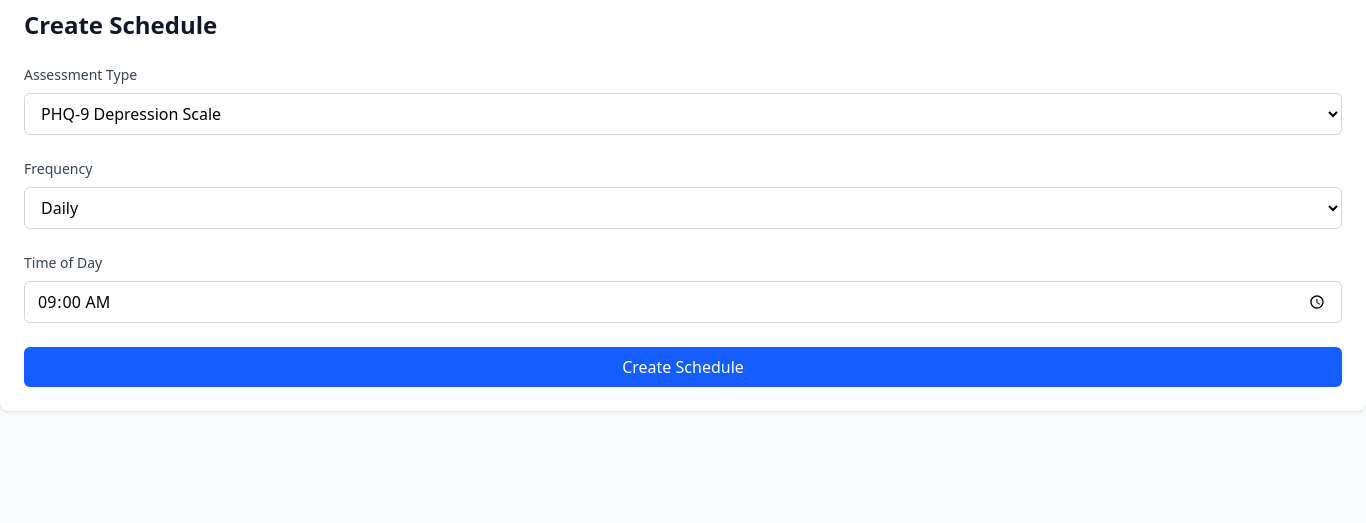
ScheduleForm › should show day of week selector for weekly frequency
Expected: the field labelled "Day of Week" is not shown
Select "Weekly" in the dropdown labelled "Frequency". click: coordinates (683, 208)
box: left=24, top=187, right=1342, bottom=229
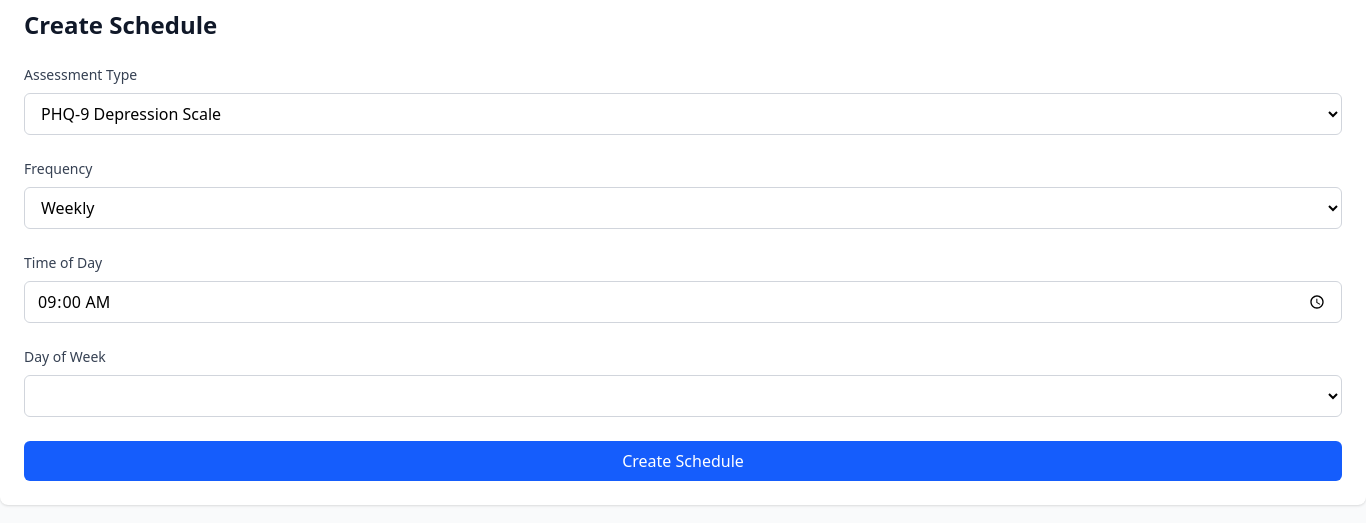
Expected: the dropdown labelled "Day of Week" is shown, left=24, top=375, right=1342, bottom=417
